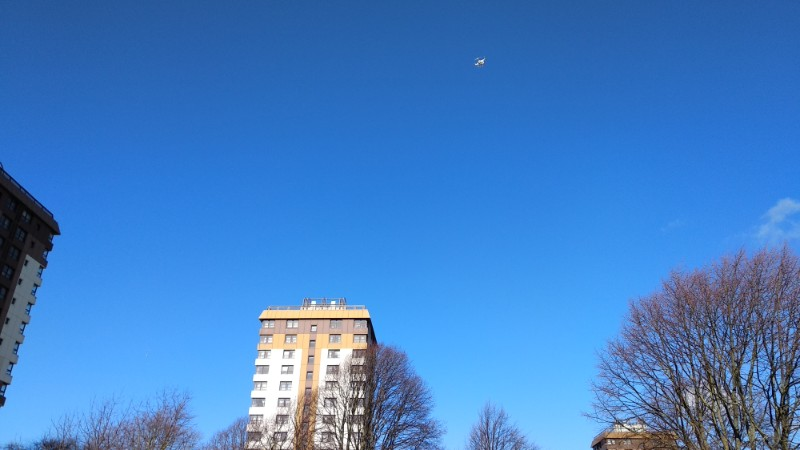drone: (472, 56, 487, 68)
